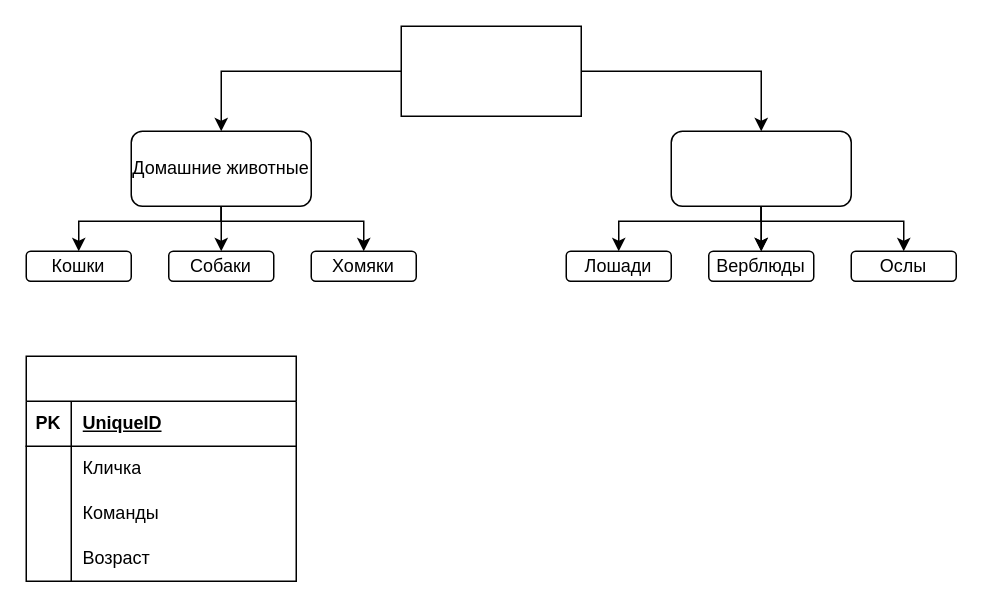
This 983x608 diagram has some shape labels left out. Each missing label, with the box of its shape:
Вид животного: (25, 355, 296, 581)
Вьючные животные: (670, 130, 851, 206)
Друзья человека: (400, 25, 581, 116)
